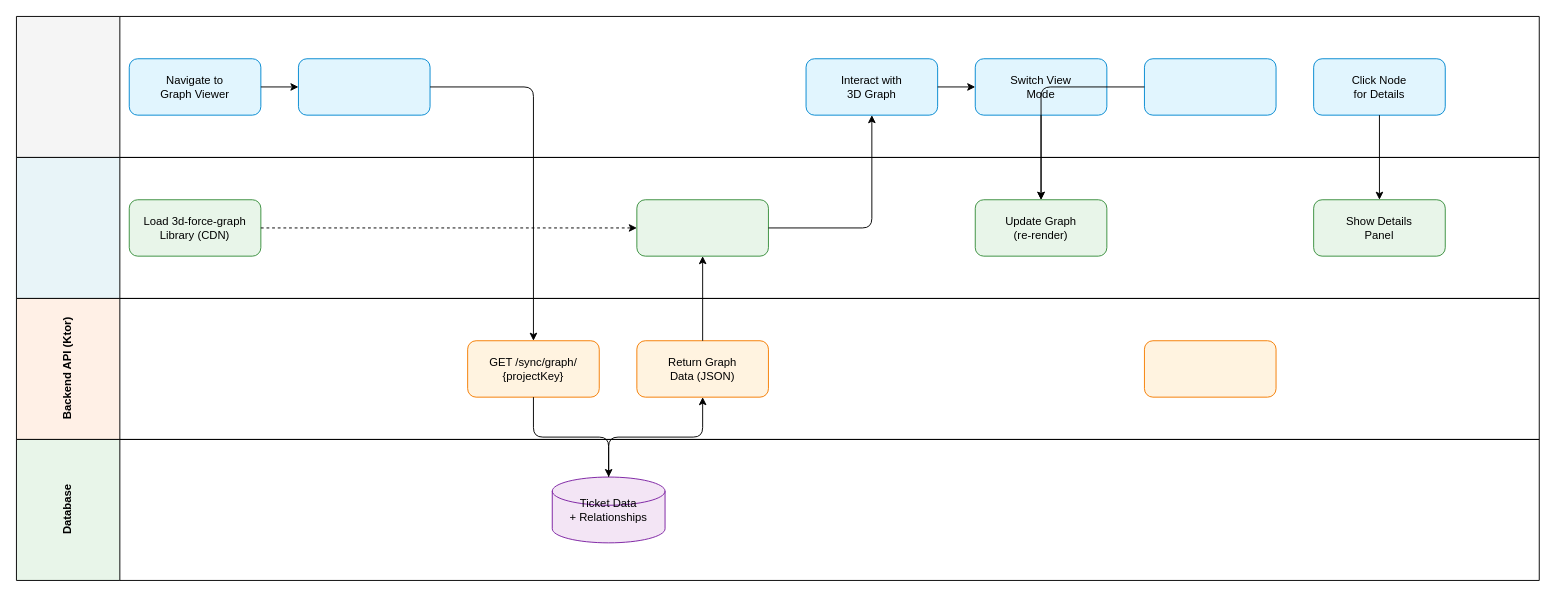
Image size: 1556x597. Some labels were removed from this diagram. Here are the shapes that lost their labels. From the top down, the box of each, then its label:
(298, 58, 430, 115): Select Project
(16, 16, 1539, 157): User / Project Manager
(1144, 58, 1276, 115): Apply Filters / Search
(636, 199, 768, 256): Render 3D Force Graph
(16, 157, 1539, 298): Frontend (graph-viewer.html)
(1144, 340, 1276, 397): GET /sync/graph/ {projectKey}/{issueKey}
